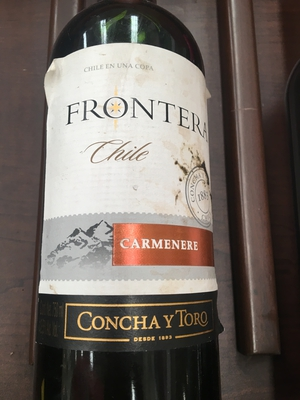frontera carmenere: (35, 14, 231, 400)
